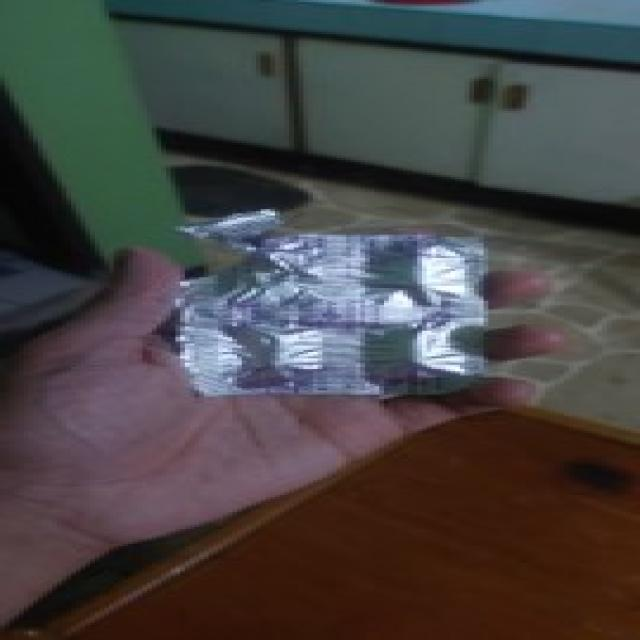Cacat: (163, 195, 495, 402)
Kemasan: (173, 204, 365, 307)
